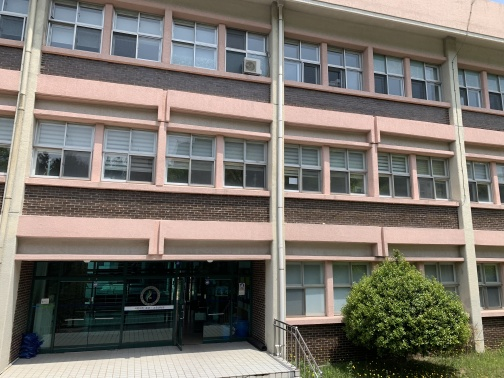College Of Education: (5, 7, 490, 367)
